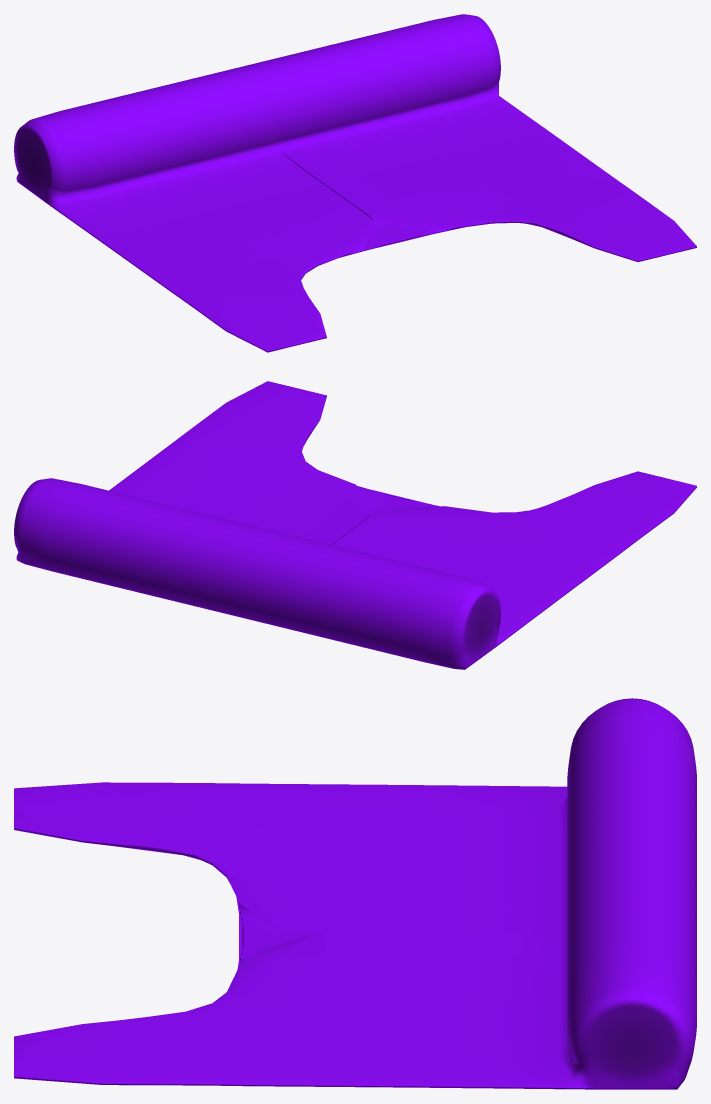
The model's file is avfallspåse.fbx.
3 views of the same model, one above another, from view 1: azimuth 30°, elevation 25°; view 2: azimuth 150°, elevation 25°; view 3: azimuth 270°, elevation 25° (orthographic). The views are drawn at different scales.
Parts seen in each view (by area): view 1: pCylinder12; view 2: pCylinder12; view 3: pCylinder12.
Boxes of the visible parts, <box> form: pCylinder12: <box>14,14,696,352</box>; pCylinder12: <box>14,381,696,669</box>; pCylinder12: <box>14,698,696,1089</box>.
Bounding box in the file's own units: 1.63 × 0.2481 × 1.56.
